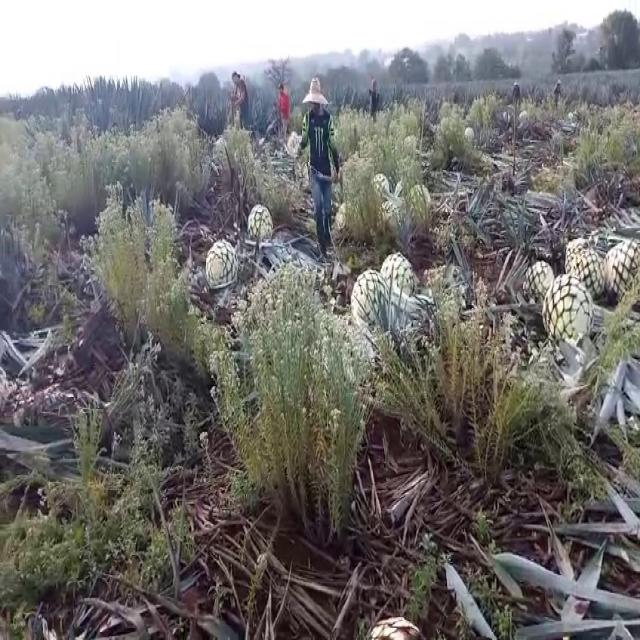agave: (541, 265, 595, 350), (348, 262, 387, 332), (602, 233, 640, 300), (201, 238, 240, 291), (378, 248, 412, 300), (521, 253, 556, 301), (574, 250, 604, 303), (245, 200, 273, 247), (564, 239, 590, 271), (378, 200, 400, 230)
